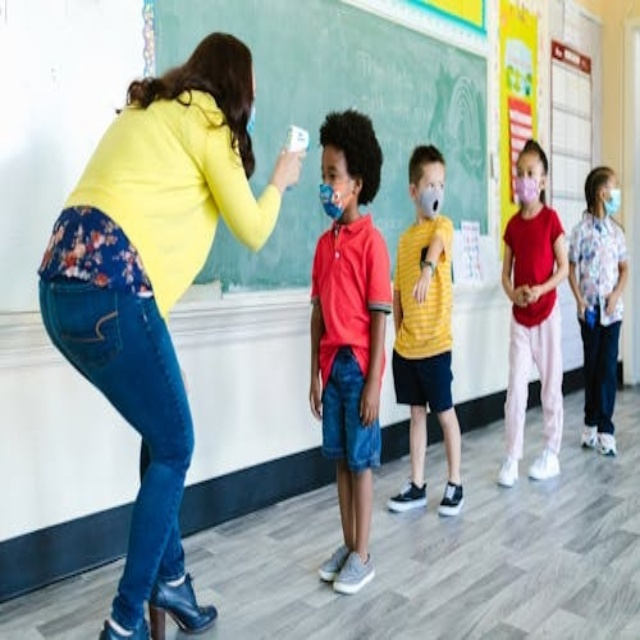Mascara: (319, 182, 352, 220), (418, 184, 444, 218), (515, 176, 541, 204), (601, 189, 621, 216), (246, 102, 256, 135)
Sin_gafas: (314, 154, 344, 179), (513, 158, 538, 181), (417, 173, 445, 192)
Sin_guantes: (356, 371, 385, 431), (301, 356, 323, 423), (411, 268, 433, 303), (516, 285, 535, 308)
